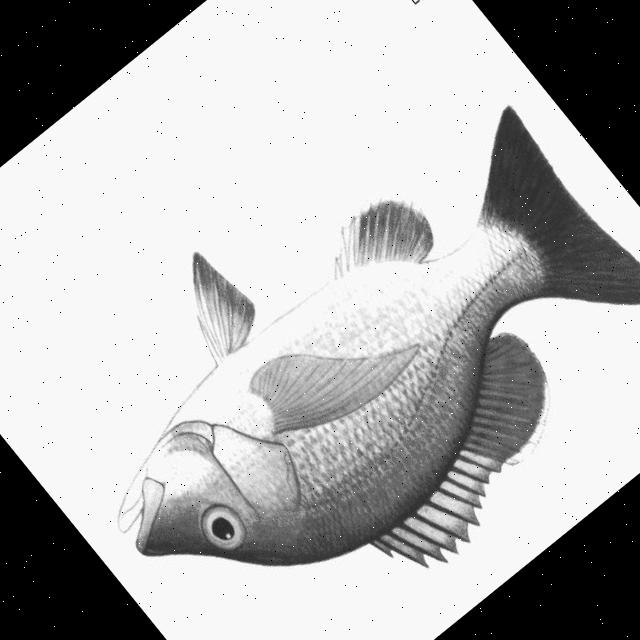ikan: (14, 37, 640, 640)
